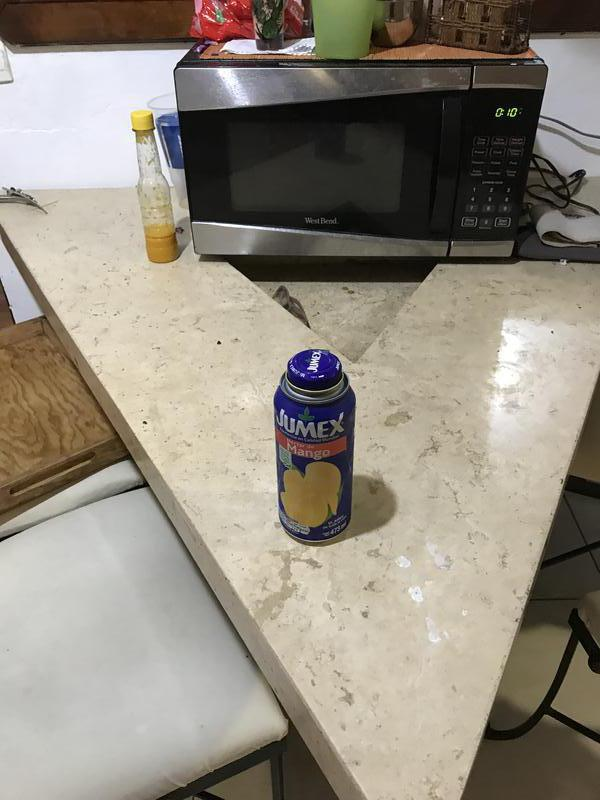jugo_jumex: (272, 350, 354, 544)
